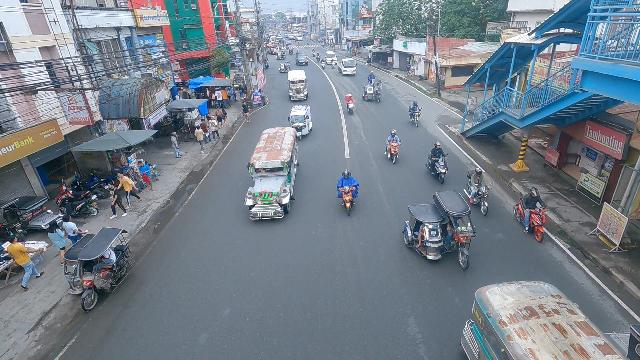car: (295, 55, 308, 66)
jeepney: (244, 127, 298, 221), (287, 69, 309, 101), (266, 44, 279, 55)
motorcycle: (512, 190, 547, 243), (463, 166, 492, 216), (424, 146, 449, 184), (335, 178, 360, 215), (385, 131, 401, 164), (408, 104, 421, 126), (345, 96, 355, 116), (320, 57, 326, 69), (331, 58, 336, 69), (316, 52, 320, 62), (312, 49, 316, 57)
truck: (336, 57, 358, 76)
van: (326, 50, 337, 65)
